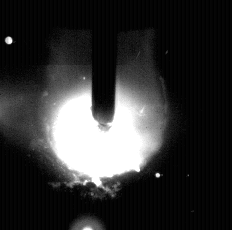arame: (93, 0, 117, 132)
poca: (40, 0, 168, 230)
